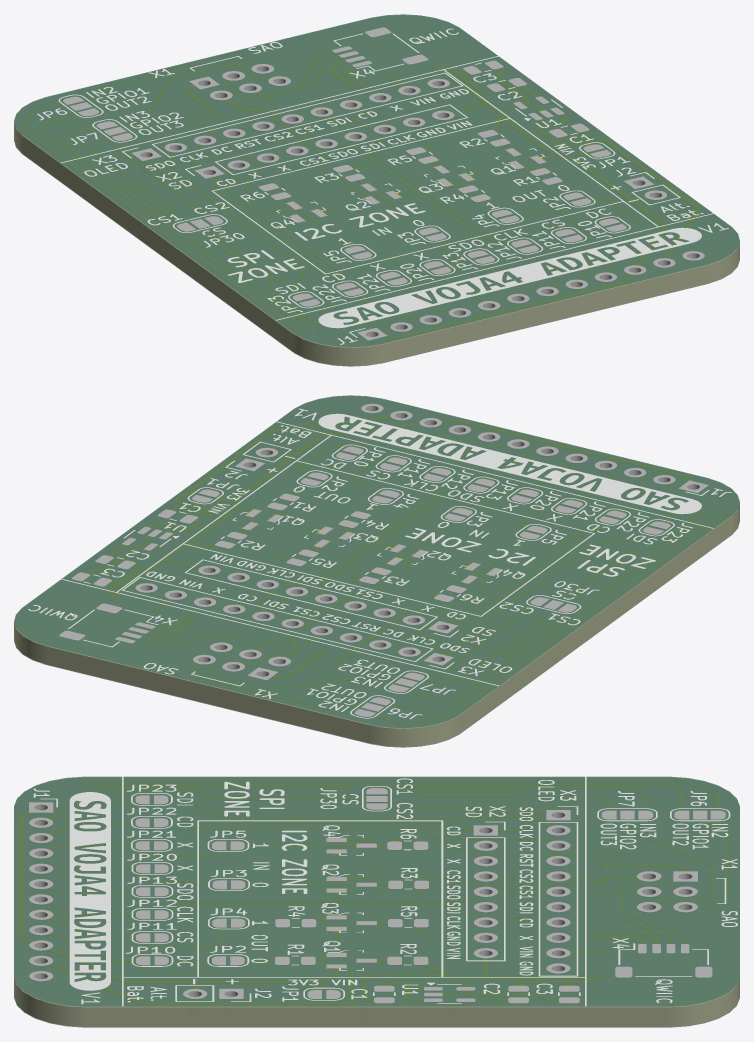
File: sao-voja4-adapter.glb
3 views of the same model, one above another, from view 1: azimuth 30°, elevation 25°; view 2: azimuth 150°, elevation 25°; view 3: azimuth 270°, elevation 25° (orthographic). The views are drawn at different scales.
Parts seen in each view (by area): view 1: =>[0:1:1:7], =>[0:1:1:9], =>[0:1:1:2], =>[0:1:1:5]; view 2: =>[0:1:1:7], =>[0:1:1:9], =>[0:1:1:2], =>[0:1:1:5]; view 3: =>[0:1:1:7], =>[0:1:1:9], =>[0:1:1:2], =>[0:1:1:5].
Boxes of the visible parts, left/top/right/bottom form: =>[0:1:1:7]: left=14, top=14, right=739, bottom=366; =>[0:1:1:9]: left=14, top=15, right=739, bottom=365; =>[0:1:1:2]: left=21, top=27, right=704, bottom=340; =>[0:1:1:5]: left=37, top=28, right=728, bottom=344; =>[0:1:1:7]: left=14, top=395, right=739, bottom=747; =>[0:1:1:9]: left=14, top=396, right=739, bottom=746; =>[0:1:1:2]: left=59, top=403, right=728, bottom=723; =>[0:1:1:5]: left=28, top=408, right=731, bottom=719; =>[0:1:1:7]: left=14, top=776, right=739, bottom=1027; =>[0:1:1:9]: left=14, top=778, right=739, bottom=1026; =>[0:1:1:2]: left=19, top=779, right=727, bottom=1004; =>[0:1:1:5]: left=33, top=776, right=737, bottom=1006.
Bounding box in the file's own units: 0.0381 × 0.00166 × 0.0508.
4 materials, 4 textured.
